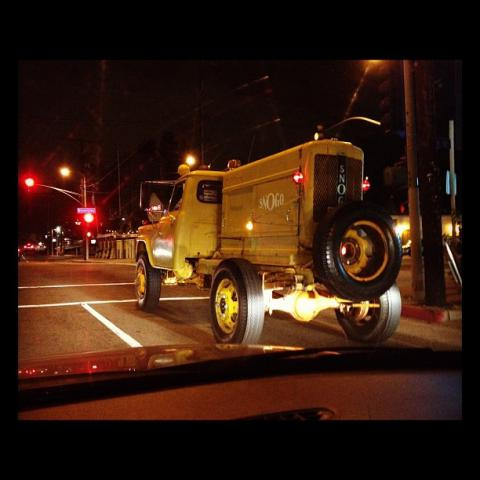truck: (135, 139, 403, 345)
